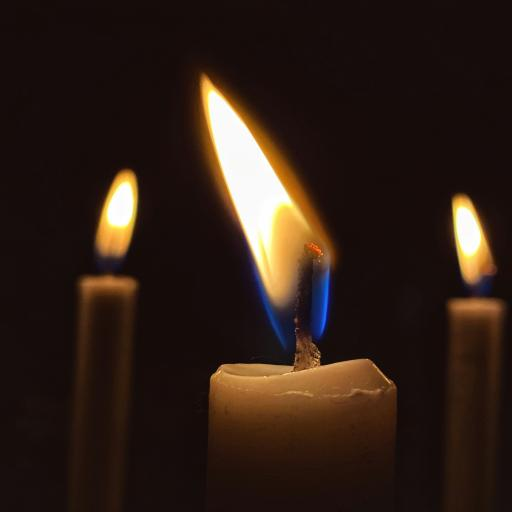candlelight: (195, 74, 329, 368), (70, 170, 141, 512), (443, 194, 505, 512), (90, 166, 141, 275), (451, 193, 498, 295)
